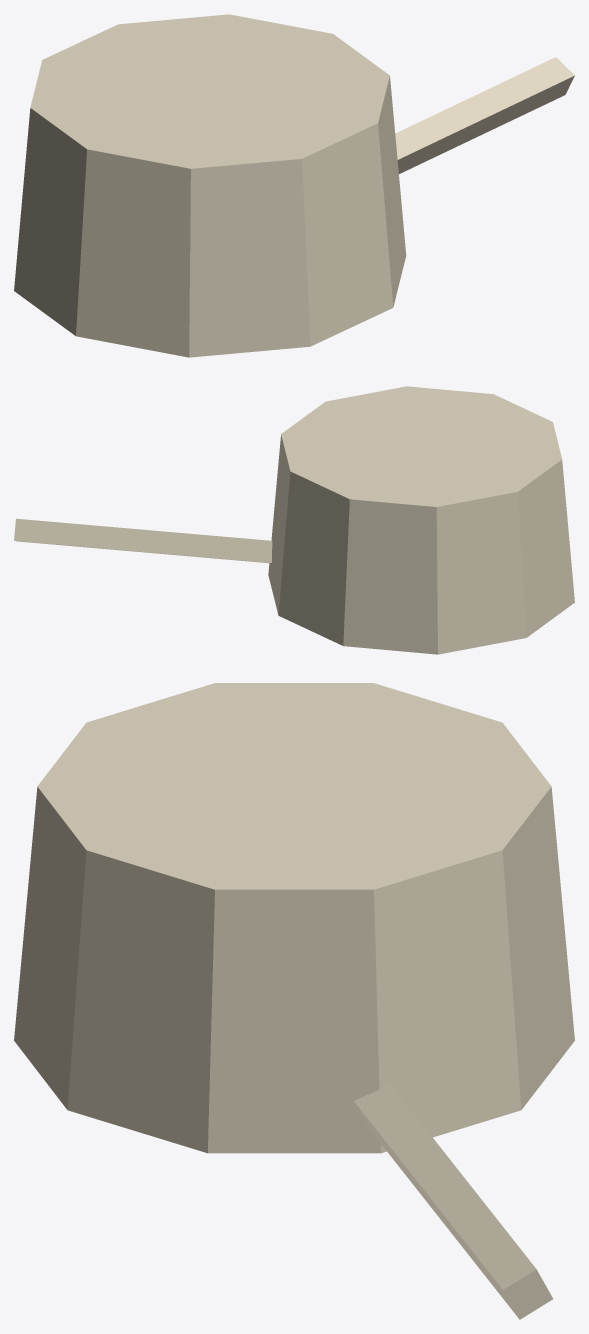
The model's file is item_040_sling_s.glb.
The picture shows the model from 3 angles, top to bottom: view 1: azimuth 30°, elevation 25°; view 2: azimuth 150°, elevation 25°; view 3: azimuth 270°, elevation 25°; orthographic projection. The views are drawn at different scales.
Visible parts, largest first — view 1: item_040_sling_s; view 2: item_040_sling_s; view 3: item_040_sling_s.
Boxes of the visible parts, x1,y1,x2,y2 form: item_040_sling_s: [14, 14, 574, 357]; item_040_sling_s: [14, 386, 574, 654]; item_040_sling_s: [14, 683, 574, 1319].
Bounding box in the file's own units: 0.4177 × 0.12 × 0.24.
